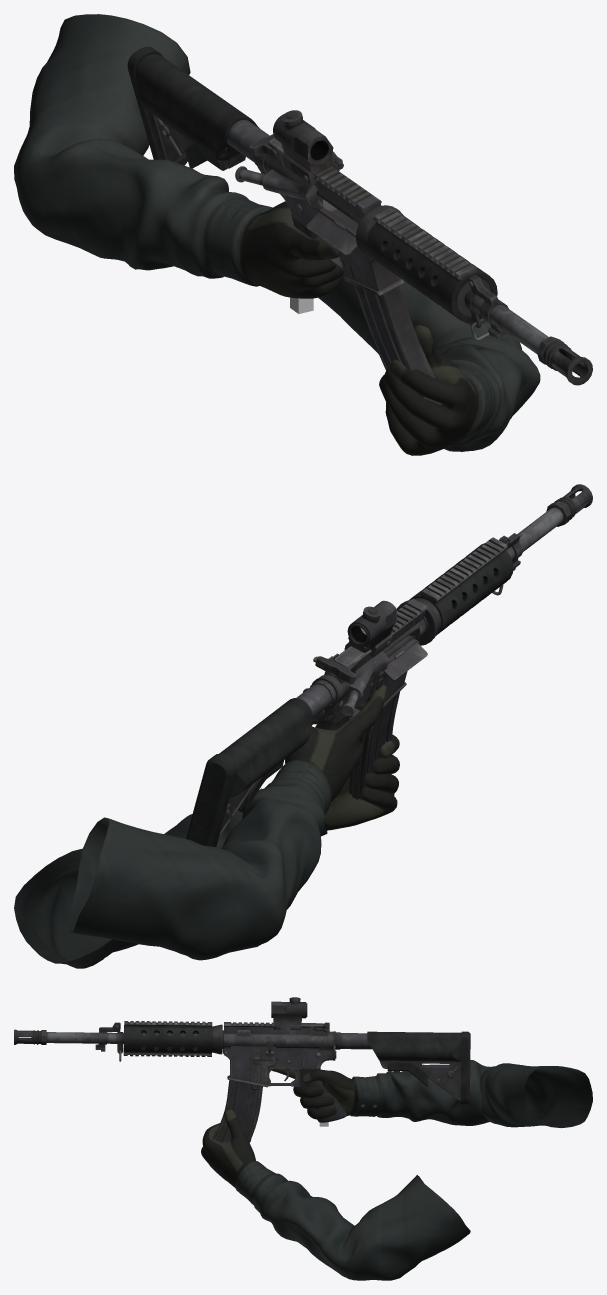
Rendered from gun_000034.obj.
The picture shows the model from 3 angles, top to bottom: view 1: azimuth 30°, elevation 25°; view 2: azimuth 150°, elevation 25°; view 3: azimuth 270°, elevation 25°; orthographic projection. The views are drawn at different scales.
Visible parts, largest first — view 1: armmesh_arms_0, base_carbine_0, clip_carbine_0, scope_carbine_0, lid_carbine_0; view 2: armmesh_arms_0, base_carbine_0, scope_carbine_0, clip_carbine_0, lid_carbine_0; view 3: armmesh_arms_0, base_carbine_0, clip_carbine_0, scope_carbine_0.
Boxes of the visible parts, <box> form: armmesh_arms_0: <box>14,14,540,455</box>; base_carbine_0: <box>127,46,592,385</box>; clip_carbine_0: <box>348,264,441,404</box>; scope_carbine_0: <box>273,110,343,185</box>; lid_carbine_0: <box>306,212,357,255</box>; armmesh_arms_0: <box>14,684,399,968</box>; base_carbine_0: <box>186,484,592,846</box>; scope_carbine_0: <box>344,600,396,657</box>; clip_carbine_0: <box>348,692,399,800</box>; lid_carbine_0: <box>383,642,427,680</box>; armmesh_arms_0: <box>201,1060,592,1280</box>; base_carbine_0: <box>14,1021,470,1122</box>; clip_carbine_0: <box>214,1075,262,1142</box>; scope_carbine_0: <box>271,997,307,1030</box>.
Bounding box in the file's own units: 50.32 × 53.27 × 128.
